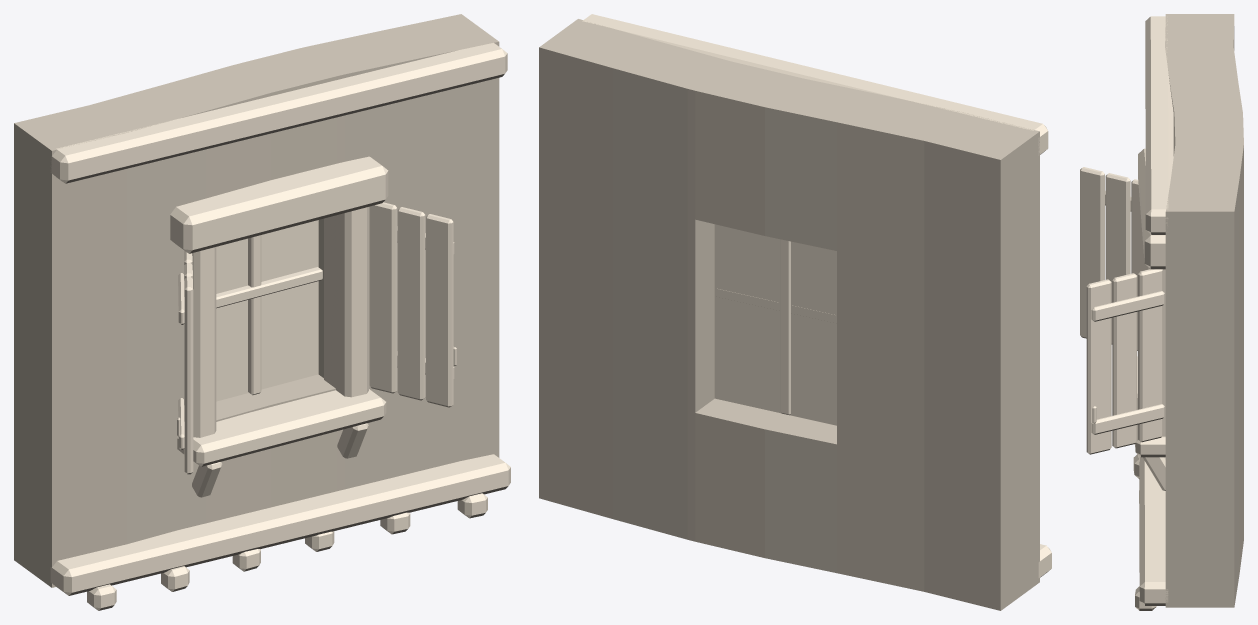
Rendered from SM_VK_Wall_PlasterUp_Window.fbx.
3 renders of one model, left to right at view 1: azimuth 30°, elevation 25°; view 2: azimuth 150°, elevation 25°; view 3: azimuth 270°, elevation 25°, orthographic. The views are drawn at different scales.
Visible parts, largest first — view 1: SM_VK_Wall_PlasterUp_Window.001; view 2: SM_VK_Wall_PlasterUp_Window.001; view 3: SM_VK_Wall_PlasterUp_Window.001.
Part boxes in pixels (left/top/right/bottom): SM_VK_Wall_PlasterUp_Window.001: left=14, top=14, right=510, bottom=610; SM_VK_Wall_PlasterUp_Window.001: left=539, top=14, right=1051, bottom=610; SM_VK_Wall_PlasterUp_Window.001: left=1080, top=14, right=1243, bottom=610.
Size of the model in its own units: 3 by 2.92 by 1.05.
